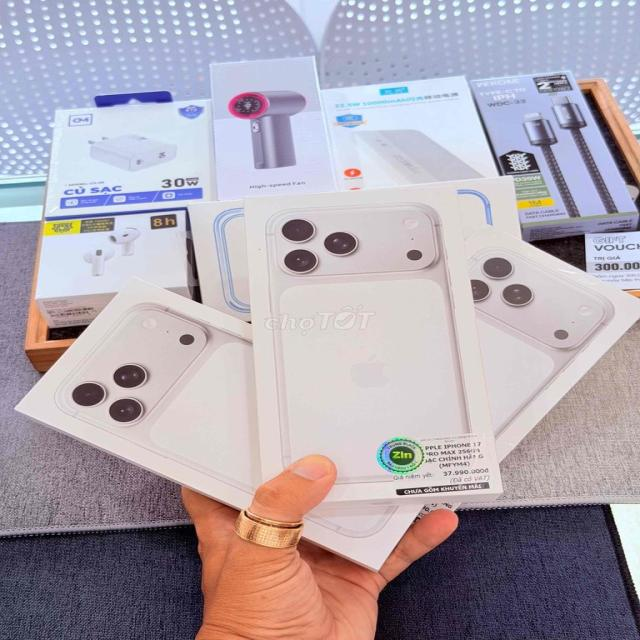gen_17: (257, 204, 491, 500)
